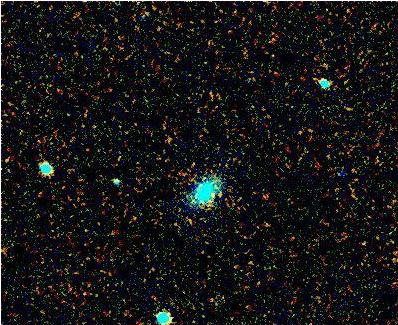star: (200, 181, 230, 211)
